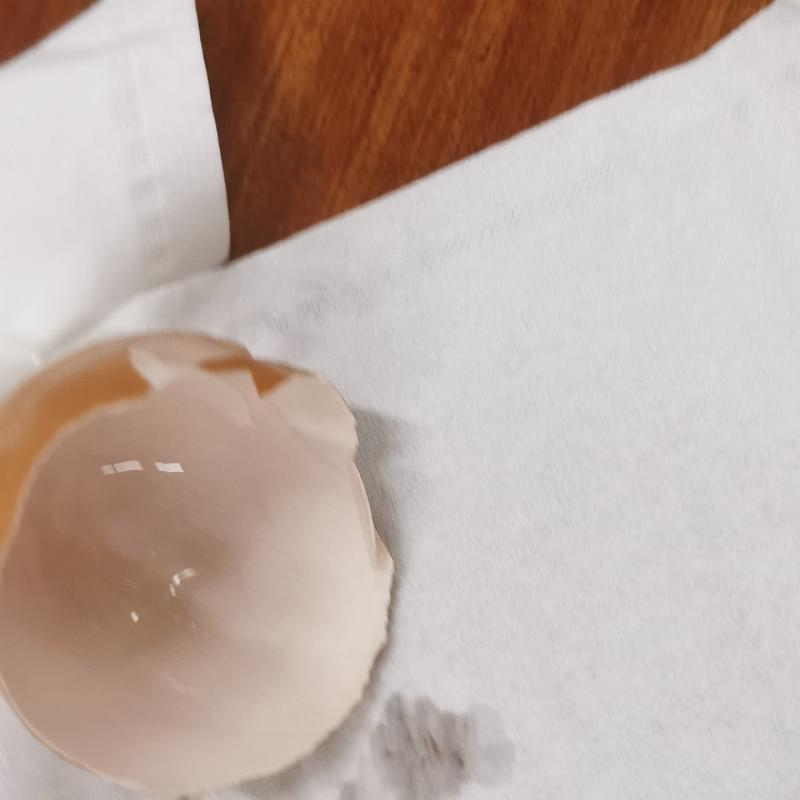eggshell: (2, 330, 393, 791)
